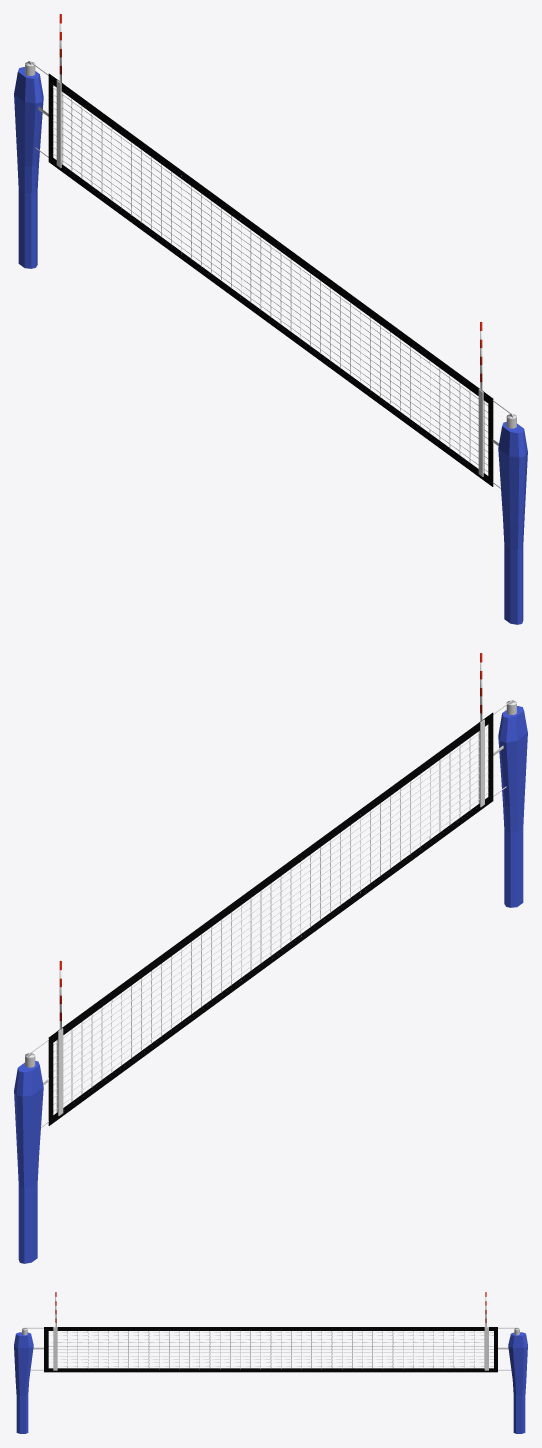
Rendered from net.glb.
The picture shows the model from 3 angles, top to bottom: view 1: azimuth 30°, elevation 25°; view 2: azimuth 150°, elevation 25°; view 3: azimuth 270°, elevation 25°; orthographic projection. The views are drawn at different scales.
Visible parts, largest first — view 1: net, net border, pole2, pole1; view 2: net, net border, pole1, pole2; view 3: net, net border, pole2, pole1, aerial strap2, aerial strap1.
Boxes of the visible parts, x1,y1,x2,y2 form: net: (53,87,488,471); net border: (48,73,493,486); pole2: (498,422,527,624); pole1: (14,67,43,268); net: (53,727,488,1111); net border: (48,712,493,1125); pole1: (14,1061,43,1263); pole2: (498,706,527,907); net: (49,1329,493,1369); net border: (44,1327,497,1372); pole2: (14,1332,33,1433); pole1: (508,1332,527,1433); aerial strap2: (53,1326,57,1370); aerial strap1: (484,1326,488,1370).
Size of the model in its own units: 0.2331 by 3.23 by 10.77.
5 materials, 1 textured.
